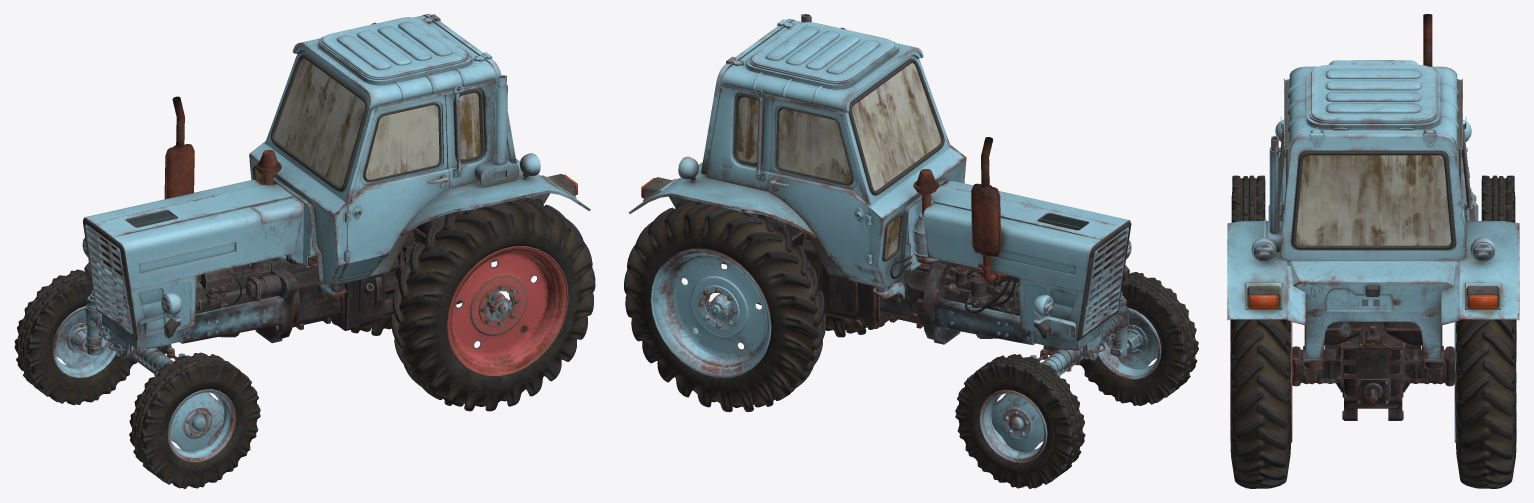
Rendered from Tractor_mtz.obj.
3 renders of one model, left to right at view 1: azimuth 30°, elevation 25°; view 2: azimuth 150°, elevation 25°; view 3: azimuth 270°, elevation 25°, orthographic. The views are drawn at different scales.
Visible parts, largest first — view 1: Body, Wheels; view 2: Body, Wheels; view 3: Body, Wheels.
Part boxes in pixels (x1,y1,x2,y2): Body: (66, 14, 590, 436); Wheels: (14, 198, 595, 488); Body: (628, 14, 1147, 436); Wheels: (624, 201, 1198, 488); Body: (1227, 14, 1519, 420); Wheels: (1230, 175, 1516, 488).
Size of the model in its own units: 3.89 by 2.72 by 1.97.
